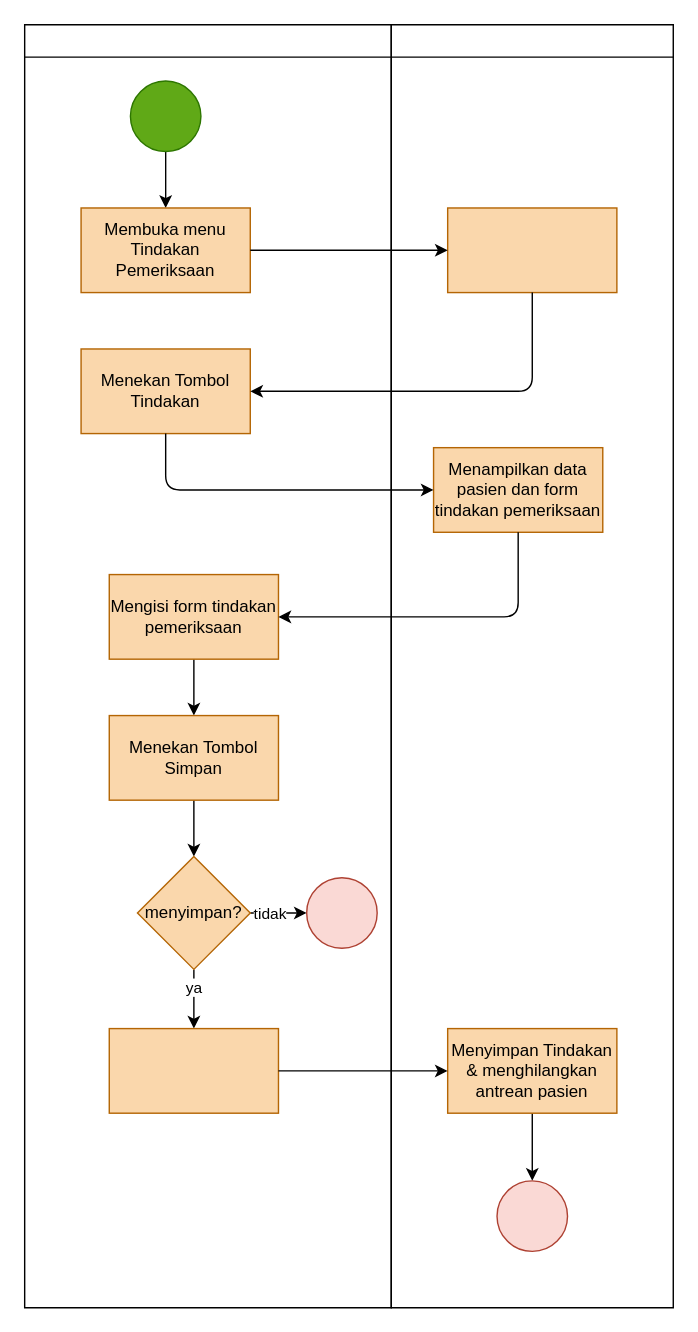
This 698x1332 diagram has some shape labels left out. The box of each missing label's shape, as (x1, y1, x2, y2) in pixels:
Dokter: (23, 23, 391, 1308)
Menampilkan daftar pasien: (446, 207, 617, 293)
Menyimpan Perubahan: (108, 1027, 278, 1113)
SIM Klinik: (390, 23, 673, 1308)
